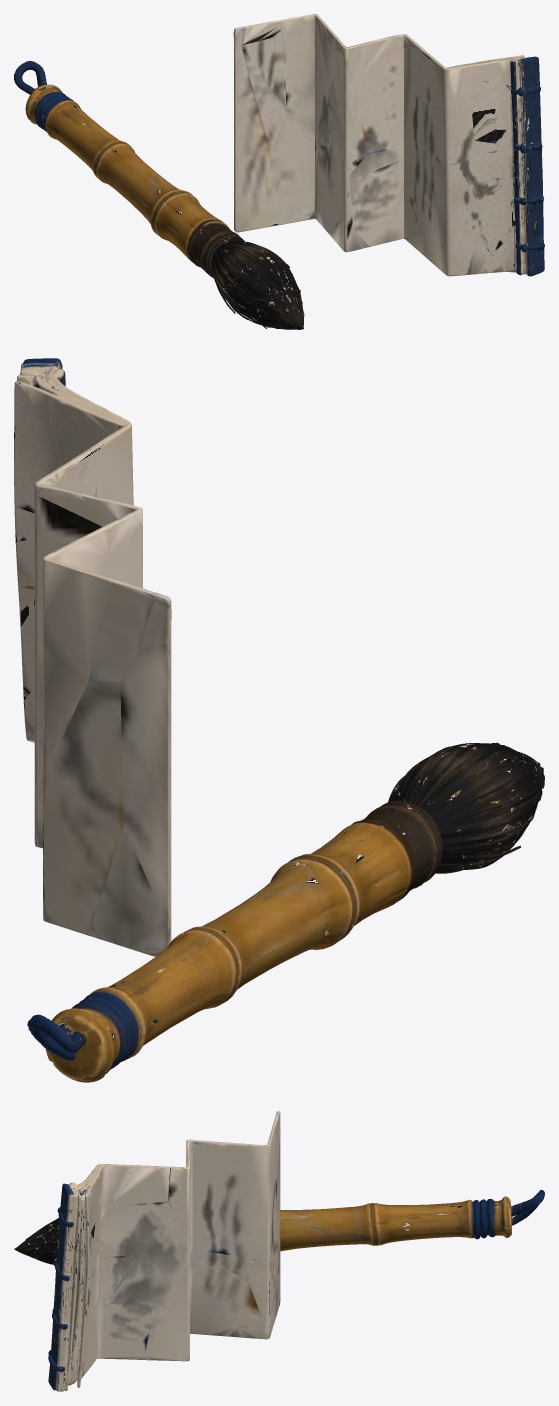
The model's file is docs-writer.glb.
The picture shows the model from 3 angles, top to bottom: view 1: azimuth 30°, elevation 25°; view 2: azimuth 150°, elevation 25°; view 3: azimuth 270°, elevation 25°; orthographic projection. The views are drawn at different scales.
Size of the model in its own units: 1.16 by 0.7996 by 1.9.
Materials: 1 (1 with a texture image).
